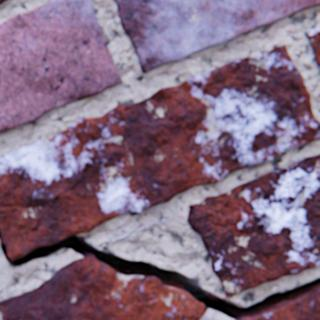brick: (0, 46, 319, 260), (186, 154, 319, 296), (0, 0, 121, 133), (115, 0, 319, 73), (238, 285, 319, 319), (303, 26, 319, 74), (0, 0, 7, 4)
broken_brick: (0, 256, 206, 319)
crack: (1, 234, 319, 319), (50, 194, 62, 207), (37, 211, 47, 224), (26, 227, 36, 233)
